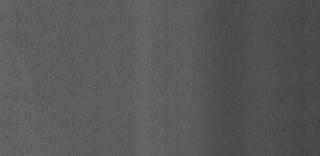silk spot: (10, 20, 114, 106)
